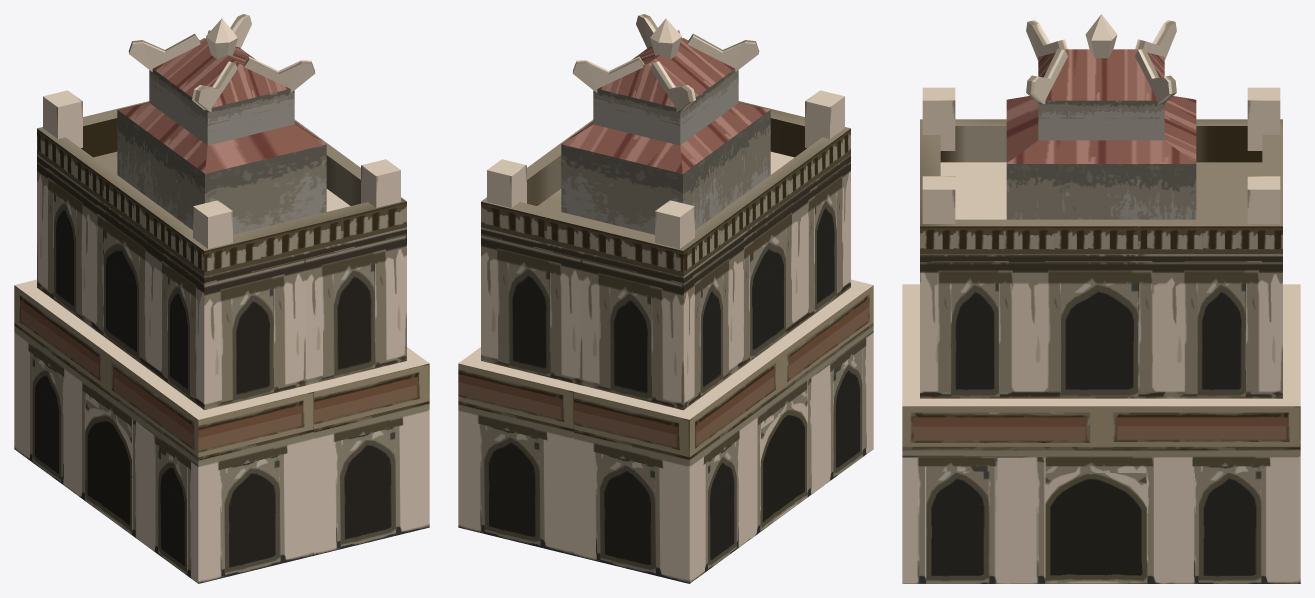
The model's file is SM_TurtleTower_01.fbx.
3 views of the same model, side by side, from view 1: azimuth 30°, elevation 25°; view 2: azimuth 150°, elevation 25°; view 3: azimuth 270°, elevation 25° (orthographic). The views are drawn at different scales.
Parts seen in each view (by area): view 1: SM_TurtleTower_01; view 2: SM_TurtleTower_01; view 3: SM_TurtleTower_01.
Part boxes in pixels (bbox=[...]): SM_TurtleTower_01: bbox=[14, 14, 429, 583]; SM_TurtleTower_01: bbox=[458, 14, 873, 583]; SM_TurtleTower_01: bbox=[902, 14, 1300, 583].
Size of the model in its own units: 4.11 by 7.99 by 5.67.
